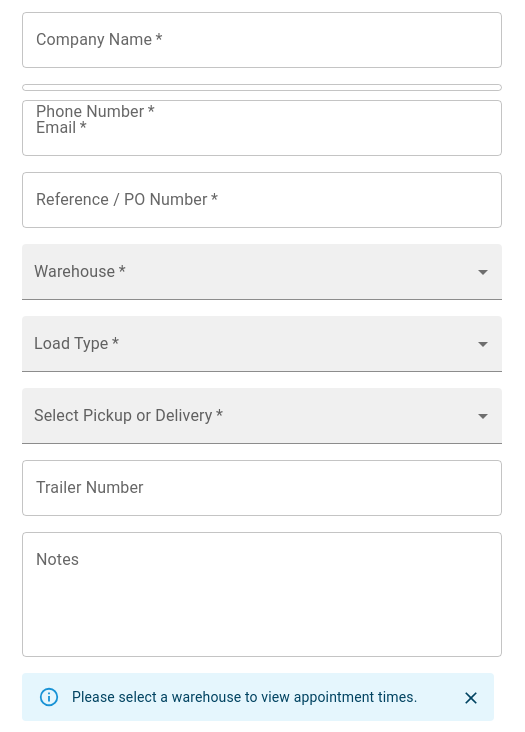
Test: load configuration dropdown visibility › appears with exactly Palletized and Floor Loaded when Delivery is chosen
Click the dropdown named "select pickup or delivery" next to "Select Pickup or Delivery". click: (262, 416)
box: [22,388,502,444]
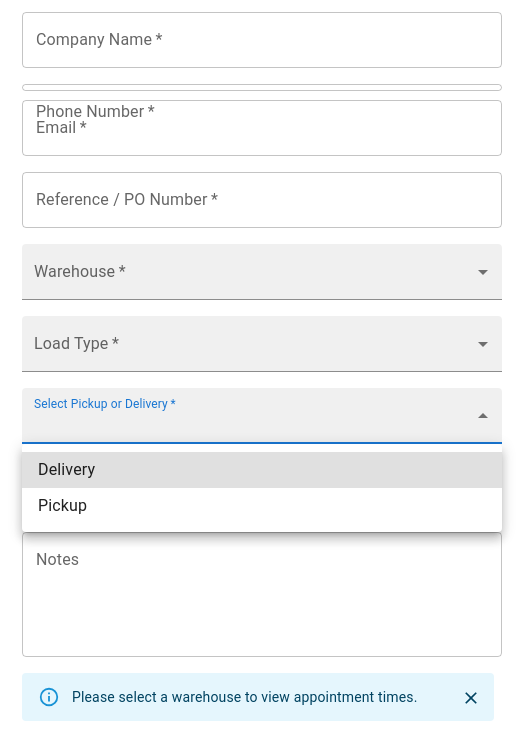
Click the option "Delivery". click: (67, 470)
box: [22,452,502,488]
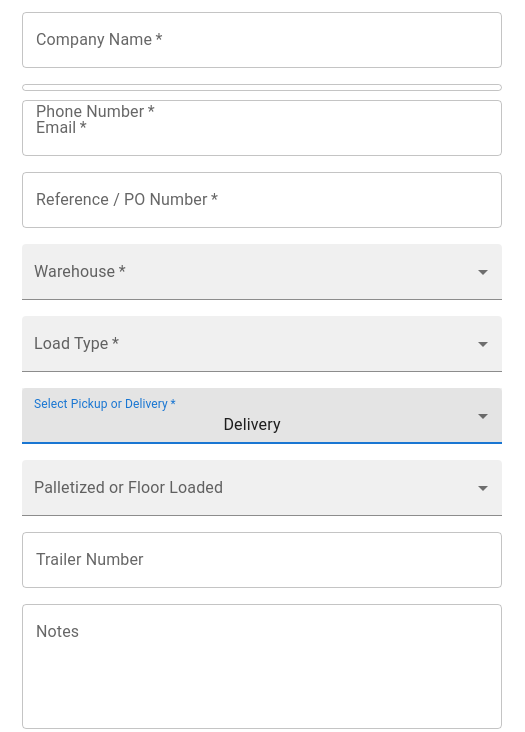
Result: the dropdown named "palletized or floor loaded" next to "Palletized or Floor Loaded" is shown
Click the dropdown named "palletized or floor loaded" next to "Palletized or Floor Loaded". click: (262, 488)
box: [22,460,502,516]
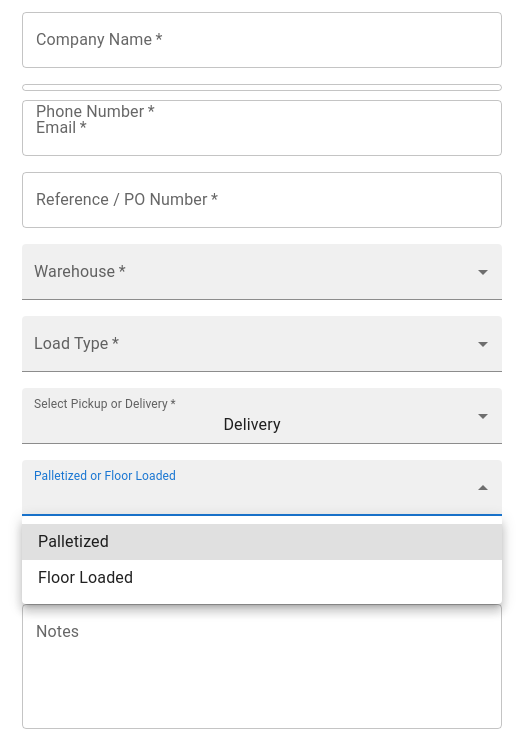
Result: the options read "Palletized", "Floor Loaded", in this order at [22,524,502,560]; [38,568,133,587]
